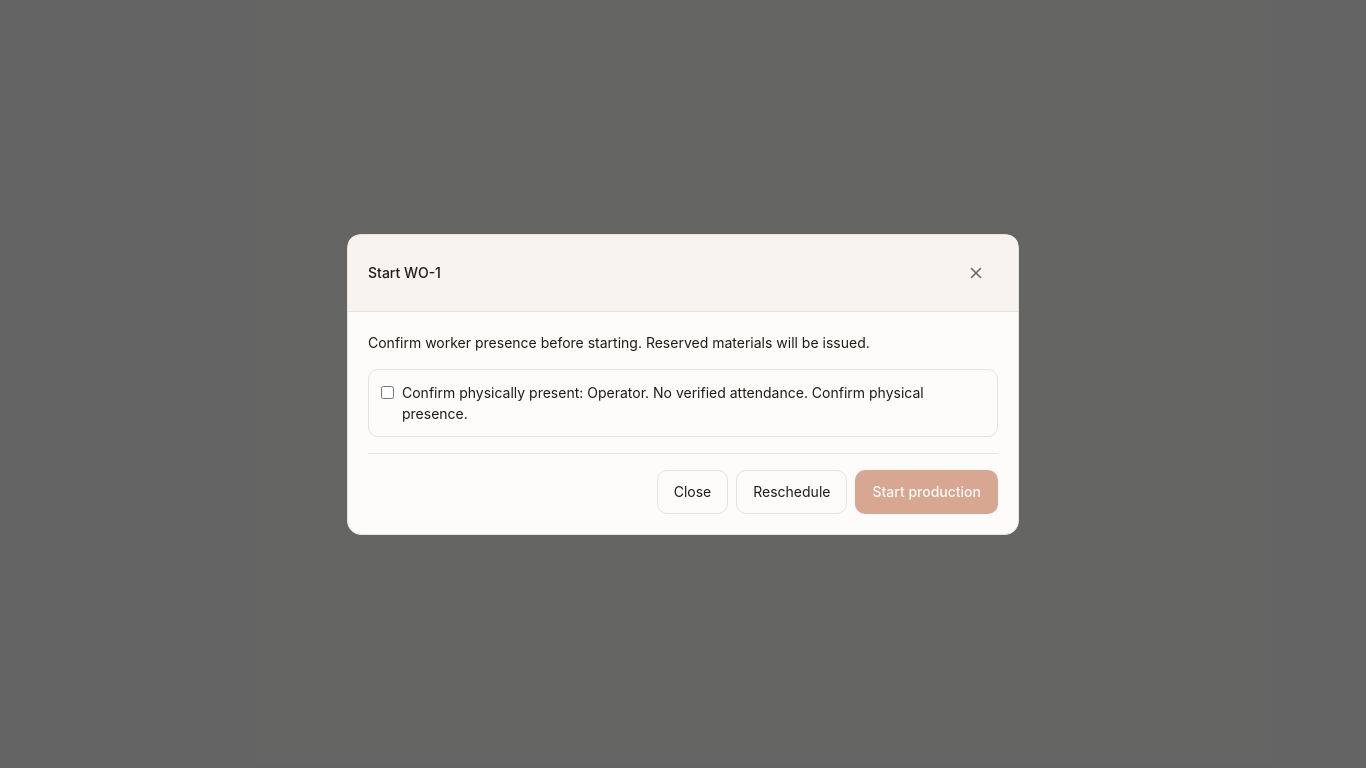
refreshes unchanged readiness without clearing physical-presence confirmation
Click the checkbox: (388, 392) [381,386,394,398]
Wait 30000 ms
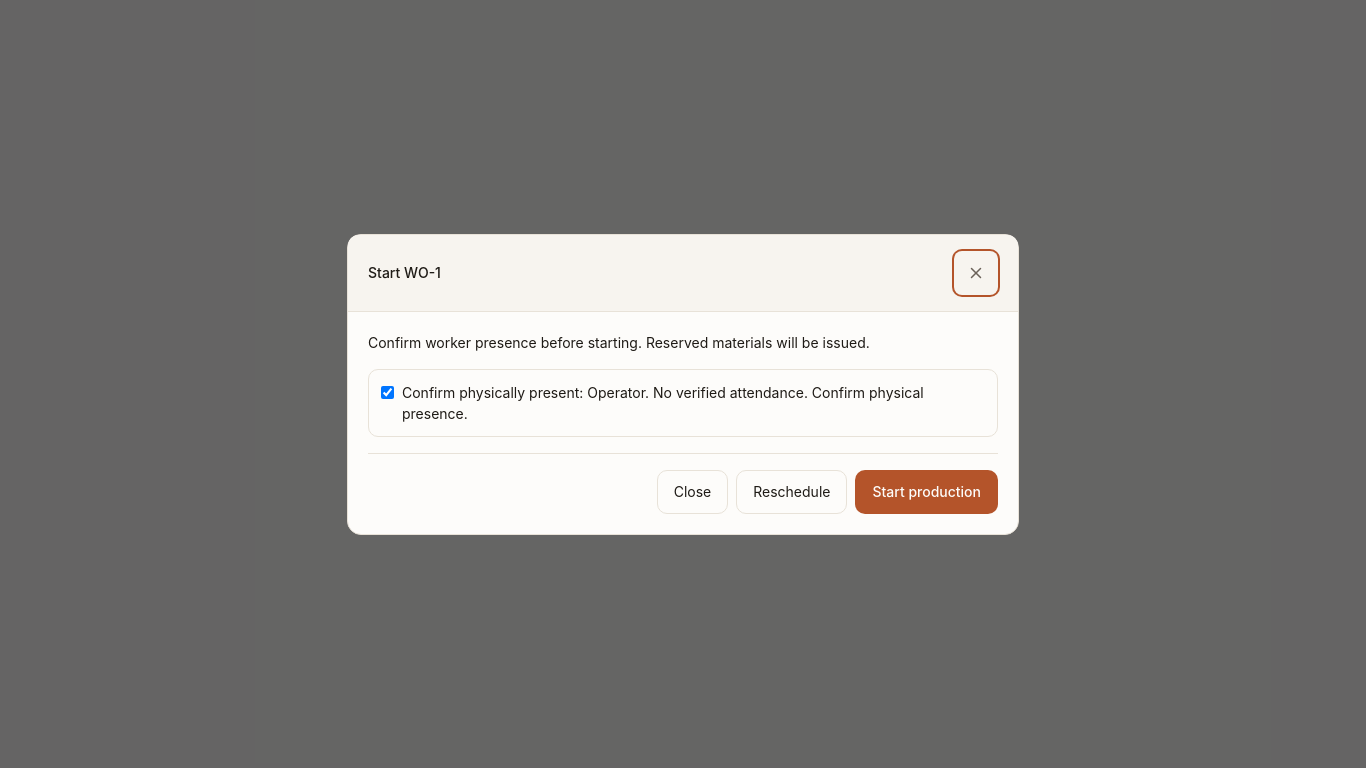
Check: the checkbox is checked, box [381,386,394,398]
Check: the button "Start production" is enabled, box [855,470,998,514]
